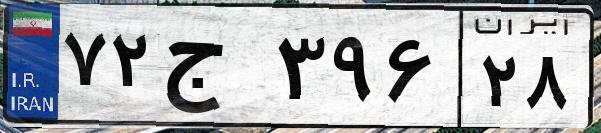2: (475, 38, 525, 113), (110, 28, 158, 98)
3: (270, 28, 330, 110)
6: (385, 28, 445, 110)
7: (57, 26, 110, 100)
8: (525, 38, 570, 115)
9: (330, 28, 385, 110)
ج: (158, 20, 270, 120)
